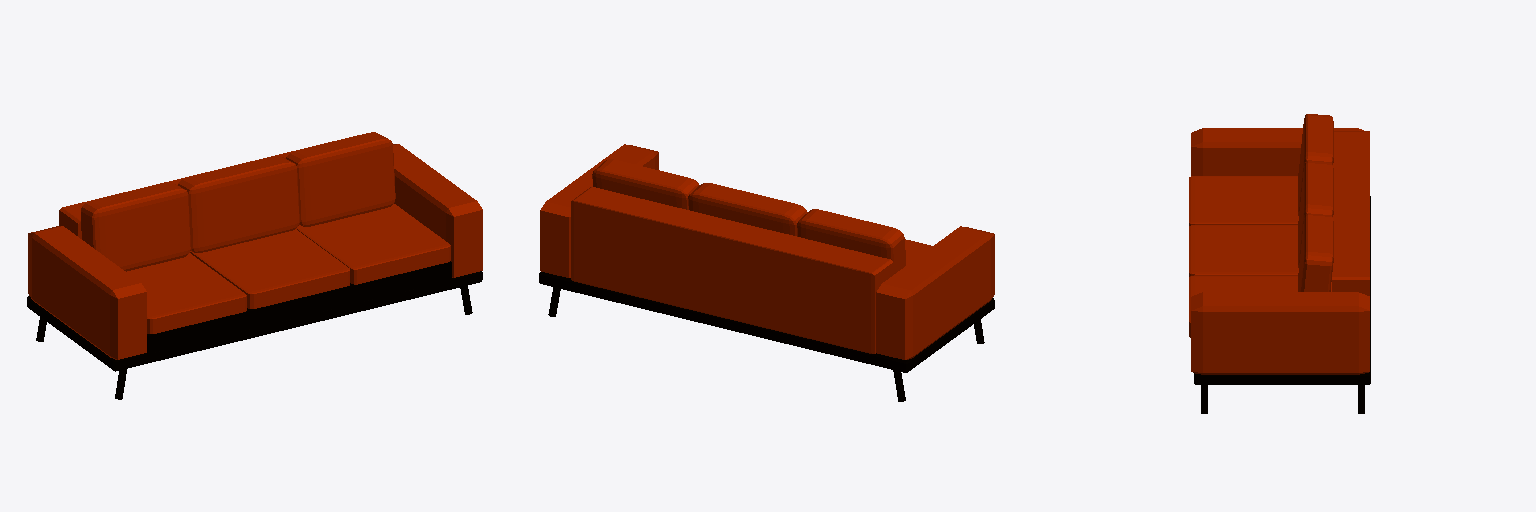
File: couch.obj
The picture shows the model from 3 angles: view 1: azimuth 30°, elevation 25°; view 2: azimuth 150°, elevation 25°; view 3: azimuth 270°, elevation 25°; orthographic projection.
Parts seen in each view (by area): view 1: Cube.003_Cube.005, Cube, Cube.009_Cube.014, Cube.008_Cube.013, Cube.007_Cube.012, Cube.005_Cube.011, Cube.006_Cube.010, Cube.001, Cube.002_Cube.009, Cube.004; view 2: Cube.004, Cube.003_Cube.005, Cube, Cube.001, Cube.009_Cube.014, Cube.007_Cube.012, Cube.008_Cube.013; view 3: Cube.001, Cube.004, Cube.005_Cube.011, Cube.002_Cube.009, Cube.003_Cube.005, Cube.008_Cube.013, Cube.006_Cube.010, Cube, Cube.009_Cube.014, Cube.007_Cube.012.
Boxes of the visible parts, x1,y1,x2,y2 form: Cube.003_Cube.005: [28, 226, 146, 359]; Cube: [27, 261, 482, 371]; Cube.009_Cube.014: [178, 156, 299, 252]; Cube.008_Cube.013: [286, 132, 395, 226]; Cube.007_Cube.012: [81, 182, 190, 271]; Cube.005_Cube.011: [190, 229, 349, 308]; Cube.006_Cube.010: [296, 204, 450, 284]; Cube.001: [393, 144, 482, 277]; Cube.002_Cube.009: [127, 253, 246, 333]; Cube.004: [59, 135, 357, 238]; Cube.004: [571, 187, 893, 353]; Cube.003_Cube.005: [876, 226, 994, 359]; Cube: [539, 272, 994, 372]; Cube.001: [540, 144, 658, 277]; Cube.009_Cube.014: [688, 183, 807, 235]; Cube.007_Cube.012: [797, 209, 905, 273]; Cube.008_Cube.013: [592, 159, 698, 209]; Cube.001: [1191, 292, 1369, 374]; Cube.004: [1332, 131, 1369, 295]; Cube.005_Cube.011: [1189, 225, 1298, 276]; Cube.002_Cube.009: [1189, 176, 1298, 225]; Cube.003_Cube.005: [1191, 128, 1363, 175]; Cube.008_Cube.013: [1298, 214, 1333, 291]; Cube.006_Cube.010: [1189, 275, 1331, 337]; Cube: [1194, 196, 1370, 384]; Cube.009_Cube.014: [1298, 161, 1333, 267]; Cube.007_Cube.012: [1298, 114, 1333, 215].
Size of the model in its own units: 2 by 0.7519 by 0.8519.